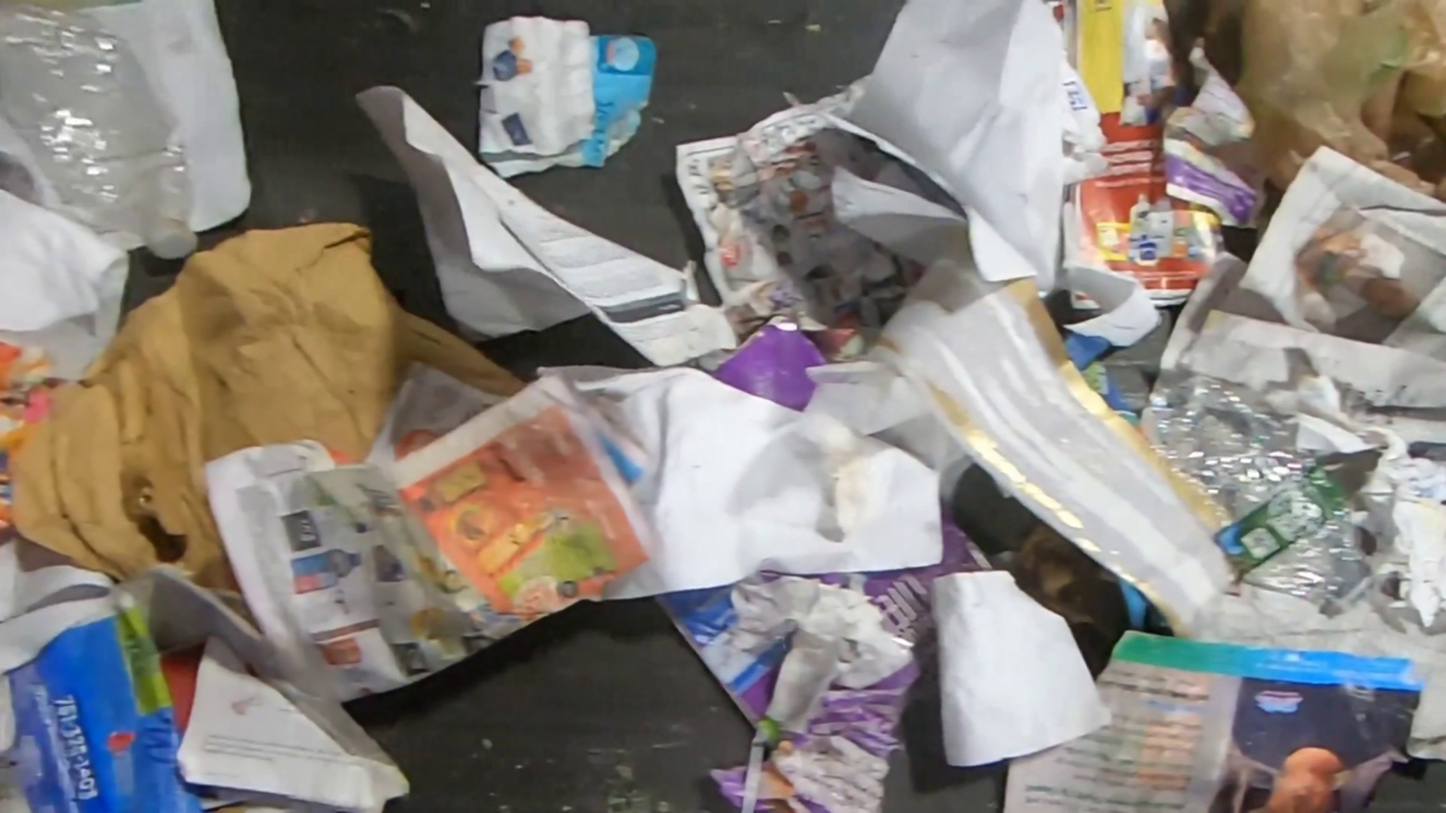cardboard: (798, 504, 1004, 707), (647, 582, 799, 729), (707, 315, 833, 418)
plastic: (1136, 372, 1382, 622), (0, 6, 203, 262), (1229, 0, 1446, 206)
